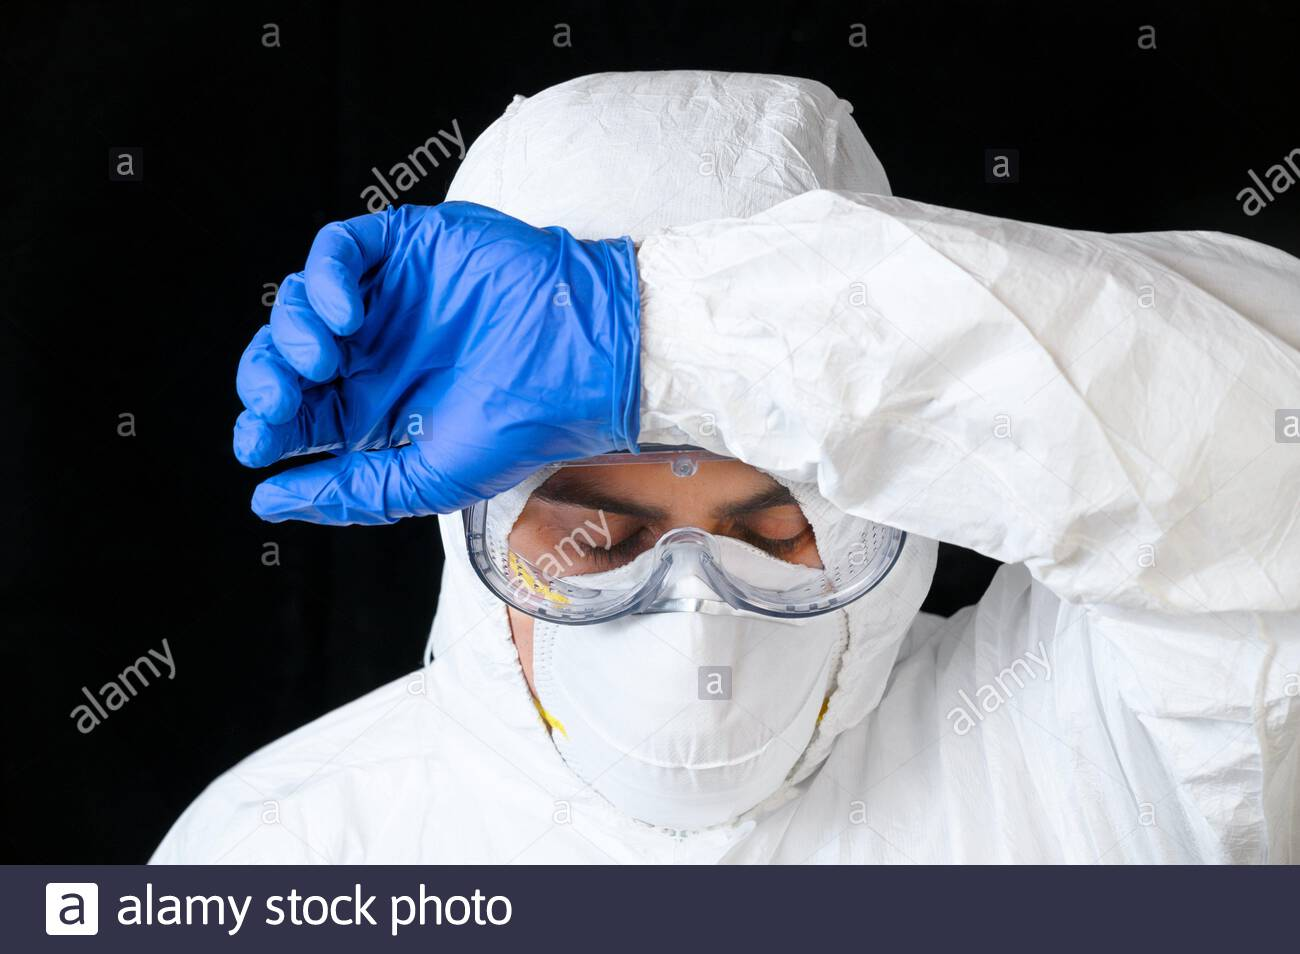Gloves: (212, 197, 655, 529)
Goggles: (464, 443, 936, 627)
with_mask: (495, 451, 874, 822)
